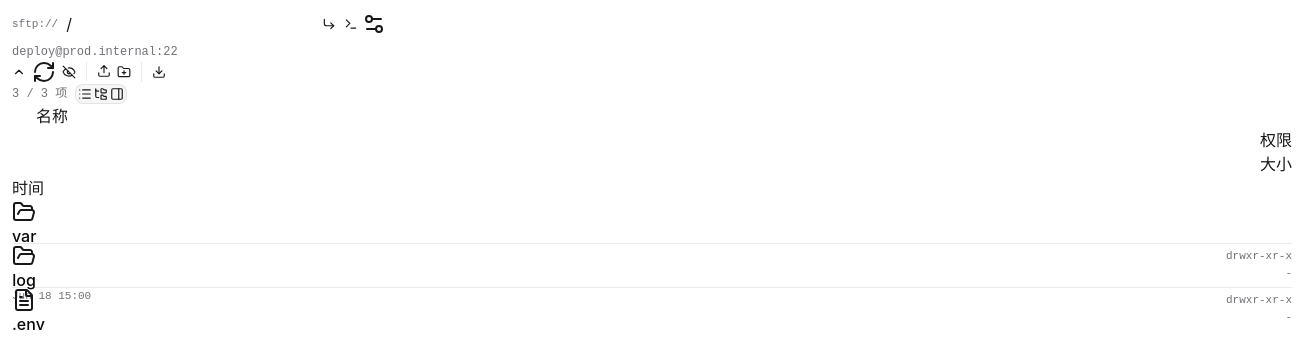
Test: SftpToolContent events and dialogs › toggles hidden dot files from the context menu
The width and height of the screenshot is (1304, 349).
Expected: the text ".env" is shown, [12,314,45,332]
Right-click the element with test id "sftp-drop-zone" at (652, 218), box [12,104,1292,332]
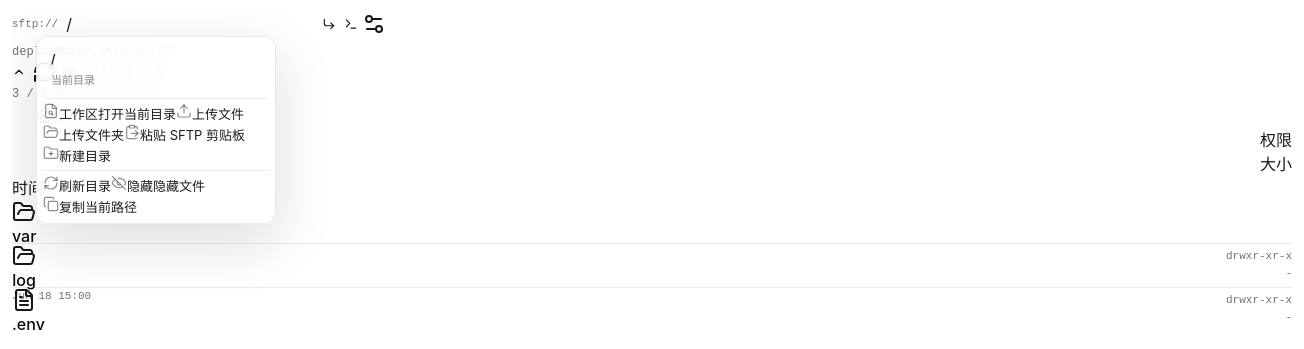
Click the menu item "隐藏隐藏文件". click: (158, 186)
box: [111,175,205,196]
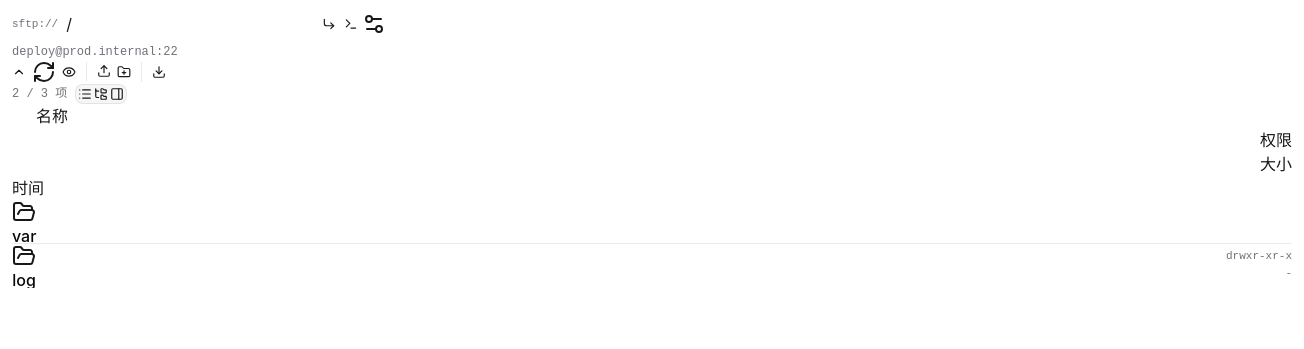
Expected: the button ".env" is gone
Right-click the element with test id "sftp-drop-zone" at (652, 196), box [12,104,1292,288]
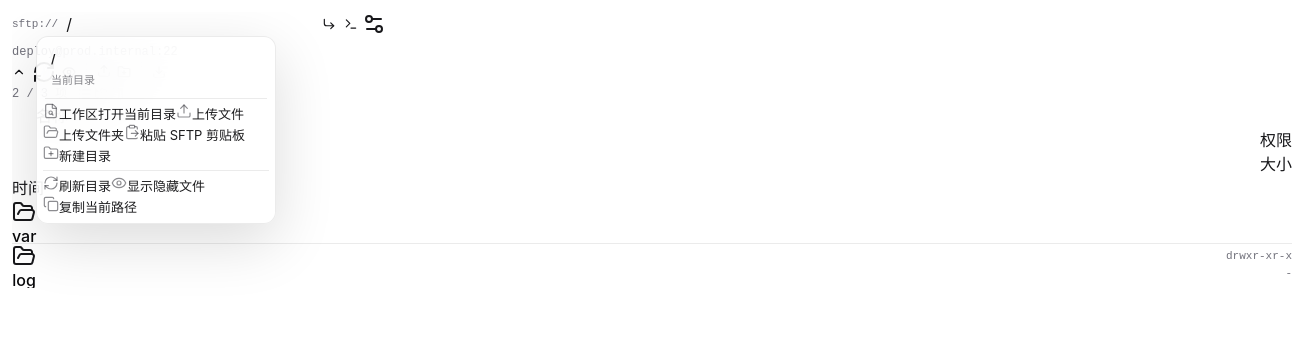
Expected: the menu item "显示隐藏文件" is shown, [111,175,205,196]
